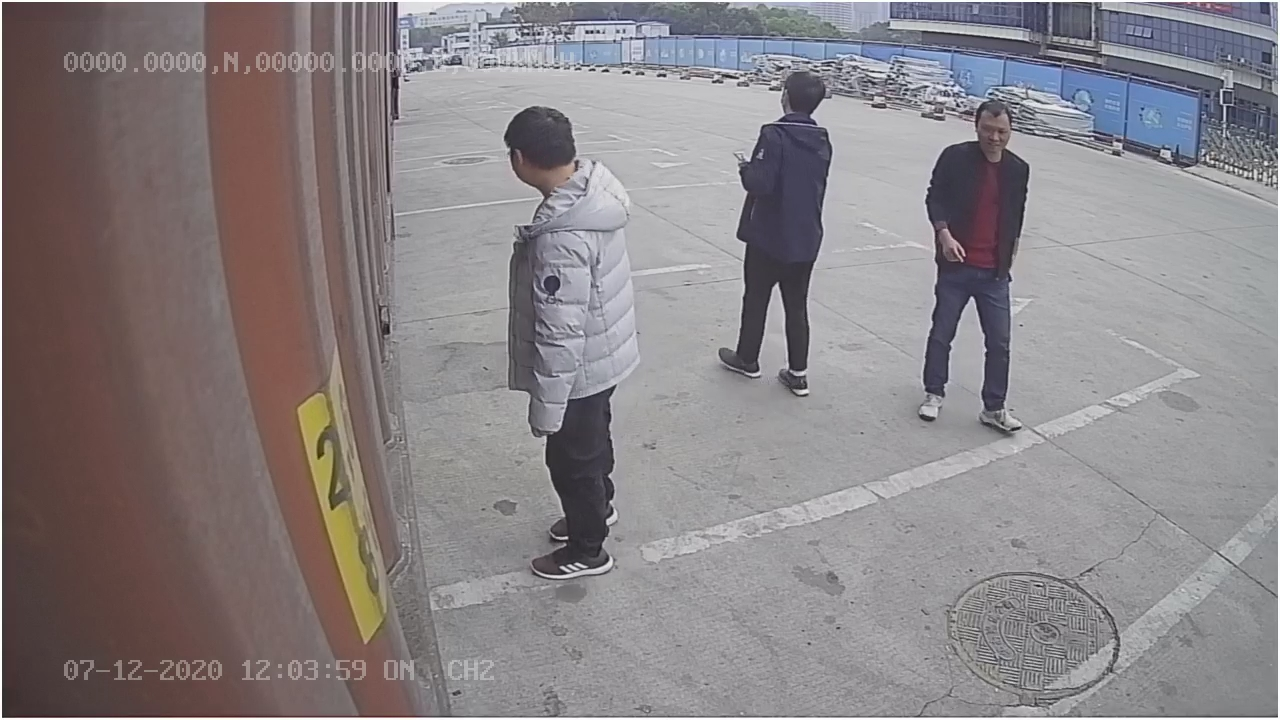person: (484, 101, 647, 576), (909, 85, 1038, 435), (712, 63, 841, 401)
